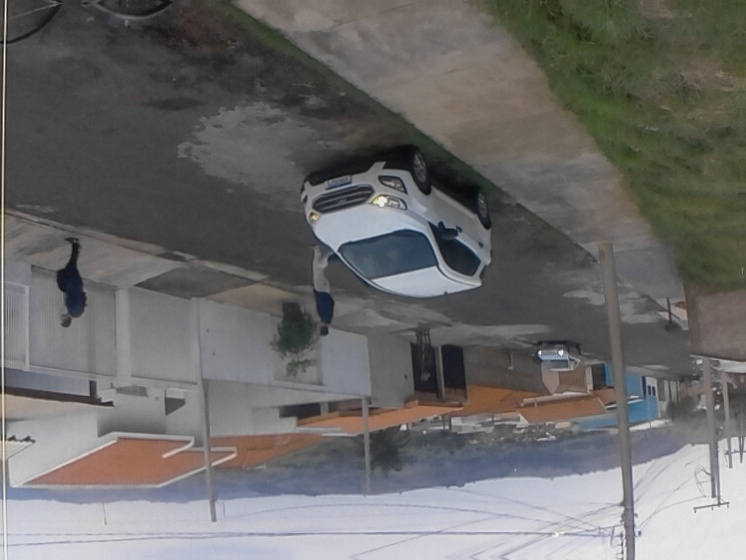person: (54, 237, 87, 328), (306, 244, 337, 337)
